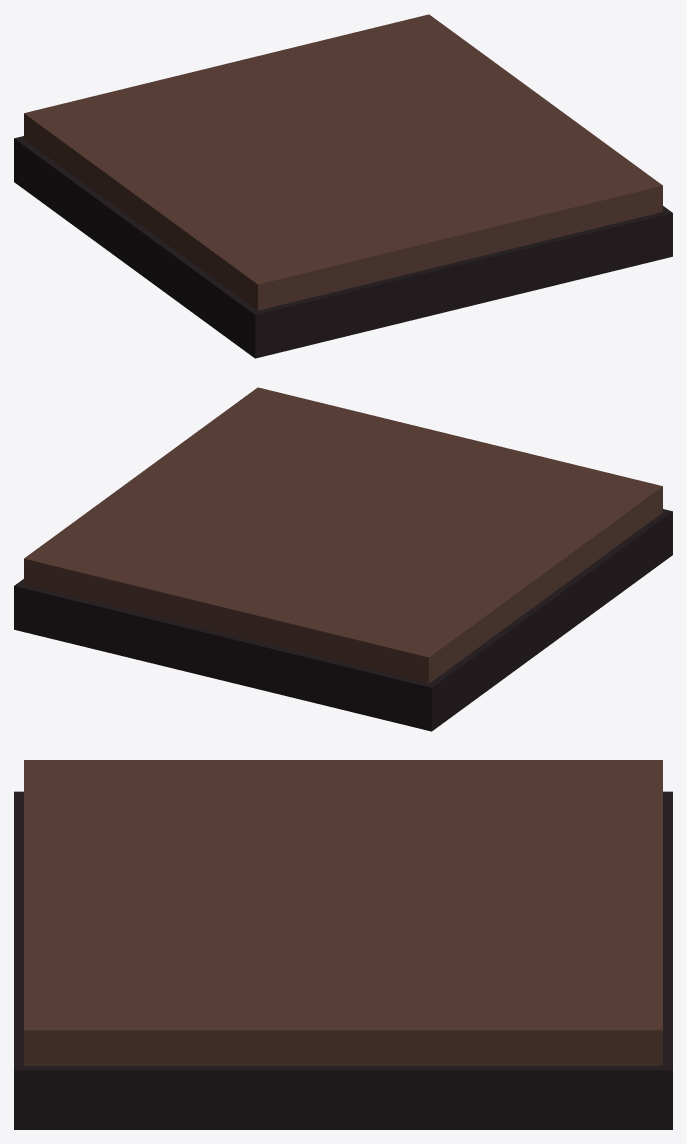
File: floor_2m.glb
3 views of the same model, one above another, from view 1: azimuth 30°, elevation 25°; view 2: azimuth 150°, elevation 25°; view 3: azimuth 270°, elevation 25° (orthographic). The views are drawn at different scales.
Parts seen in each view (by area): view 1: floor_2m; view 2: floor_2m; view 3: floor_2m.
Part boxes in pixels (x1,y1,x2,y2): floor_2m: (14, 14, 672, 358); floor_2m: (14, 387, 672, 731); floor_2m: (14, 760, 672, 1129).
Bounding box in the file's own units: 2 × 0.32 × 2.
